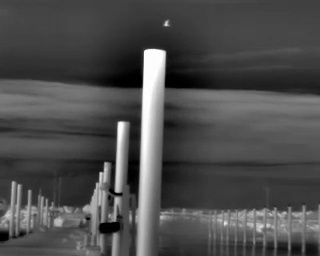BIRD: (161, 17, 173, 30)
